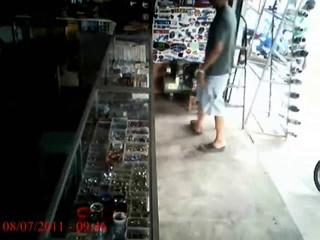Normal: (194, 0, 237, 153)
